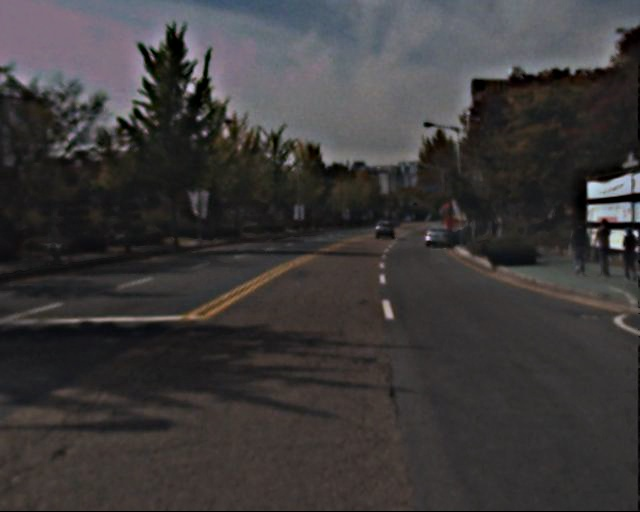person: (588, 214, 617, 277), (613, 227, 640, 277), (567, 221, 591, 277)
